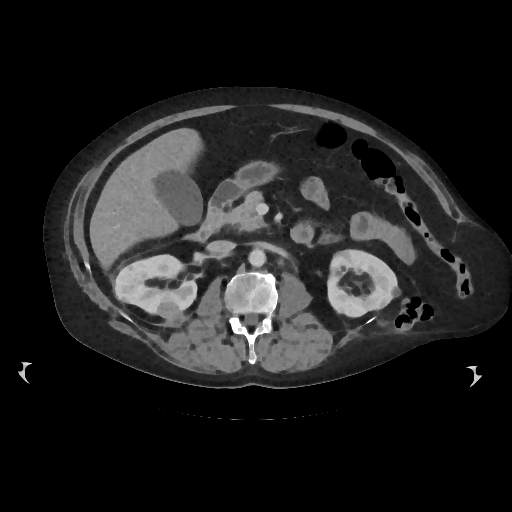Lesion: (155, 299, 184, 321)
